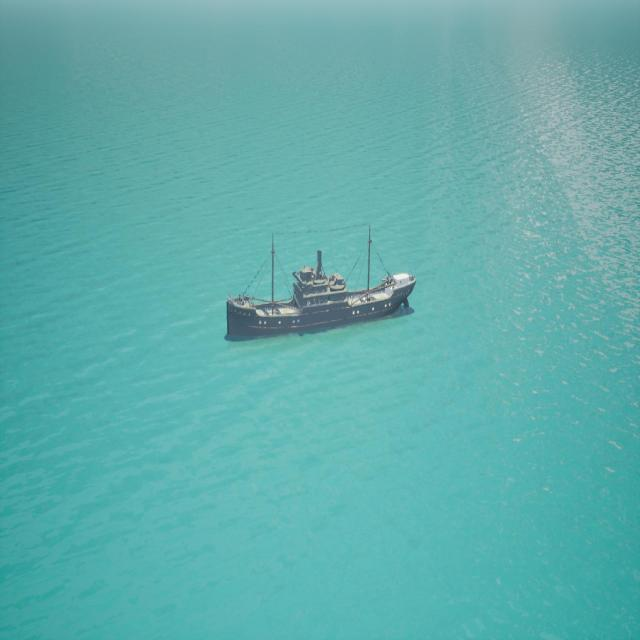fishing ship: (227, 227, 418, 341)
